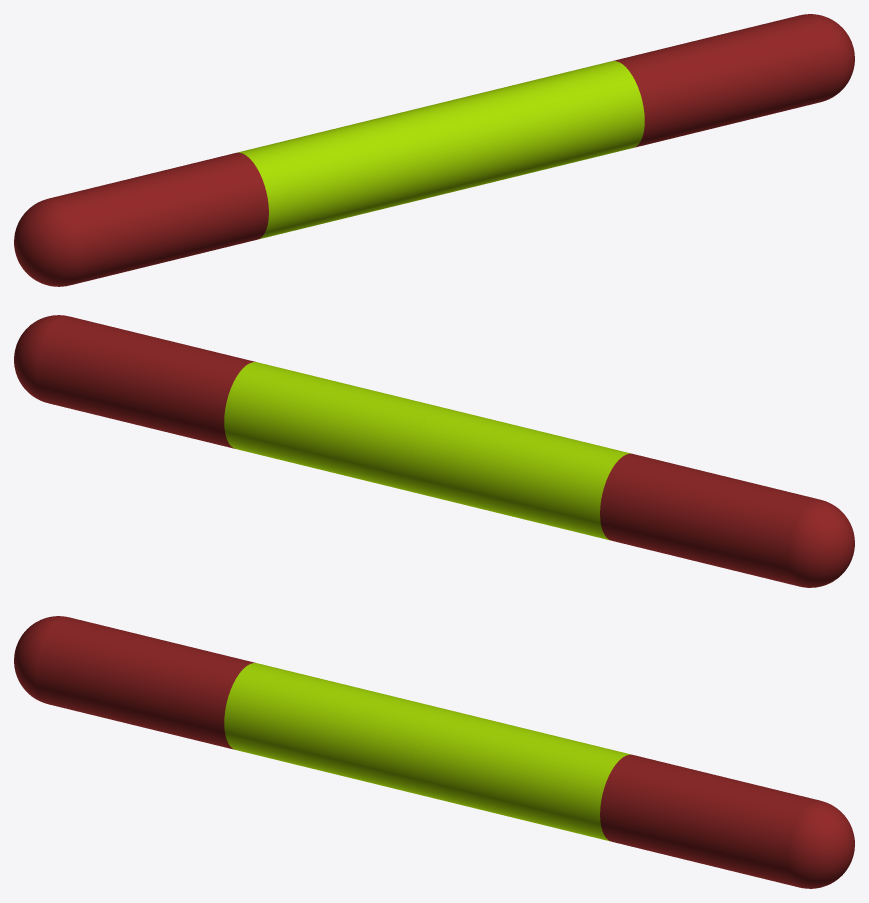
Rendered from paddle.glb.
The picture shows the model from 3 angles, top to bottom: view 1: azimuth 30°, elevation 25°; view 2: azimuth 150°, elevation 25°; view 3: azimuth 330°, elevation 25°; orthographic projection.
Parts seen in each view (by area): view 1: bonds, atoms; view 2: bonds, atoms; view 3: bonds, atoms.
Part boxes in pixels (<box>): bonds: <box>49,15,832,284</box>; atoms: <box>14,14,854,286</box>; bonds: <box>36,316,817,585</box>; atoms: <box>14,315,854,587</box>; bonds: <box>36,617,819,887</box>; atoms: <box>14,616,854,888</box>.
Bounding box in the file's own units: 4.28 × 0.4 × 0.4.
